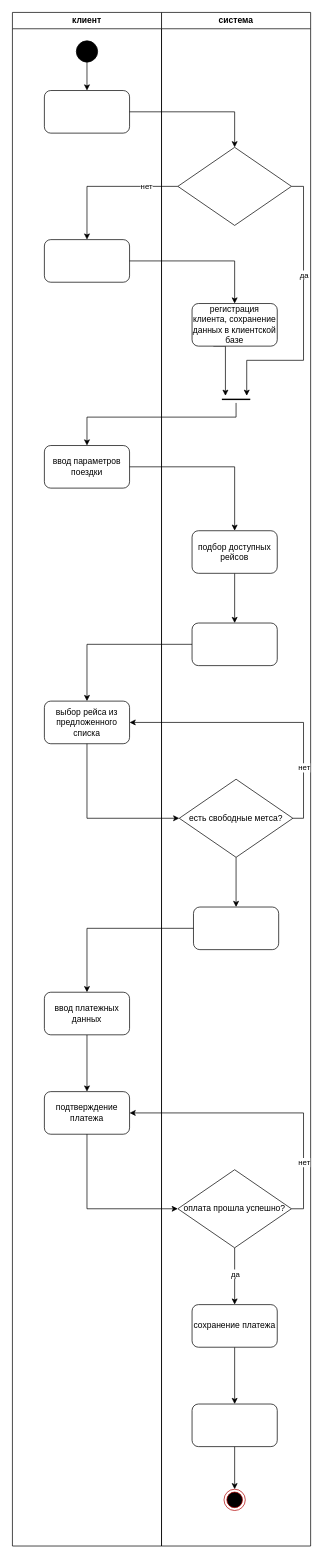
This 323x1558 diagram has some shape labels left out. Here are the shapes that lost their labels. From the top down, the centre of each, then its label:
At point (87, 111): "запрос на бронирование билетов".
At point (234, 186): "клиент зарегистрирован?".
At point (87, 260): "ввод регистрационных данных".
At point (234, 644): "отобразить список рейсов".
At point (236, 928): "расчет стоимости билетов".
At point (234, 1425): "выдача электронного билета".
